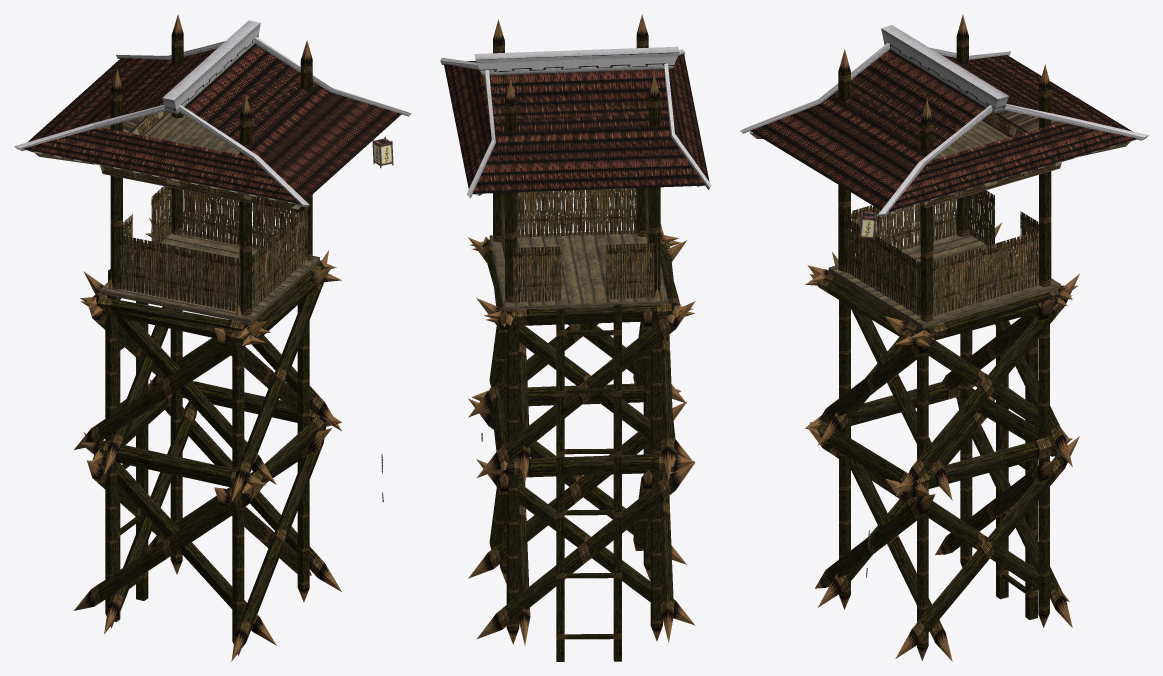
File: tower_test.fbx
3 views of the same model, side by side, from view 1: azimuth 30°, elevation 25°; view 2: azimuth 150°, elevation 25°; view 3: azimuth 270°, elevation 25° (orthographic).
Visible parts, largest first — view 1: c60bca8.obj, c949700.obj, c94d760.obj, c945240.obj, c93ecd8.obj, c935480.obj, c93b308.obj; view 2: c60bca8.obj, c949700.obj, c94d760.obj, c945240.obj, c93ecd8.obj, c935480.obj; view 3: c60bca8.obj, c949700.obj, c94d760.obj, c945240.obj, c935480.obj, c93ecd8.obj, c93b308.obj.
Boxes of the visible parts, bbox=[...] form: c60bca8.obj: bbox=[74, 218, 341, 661]; c949700.obj: bbox=[23, 44, 401, 203]; c94d760.obj: bbox=[111, 186, 307, 311]; c945240.obj: bbox=[80, 14, 336, 338]; c93ecd8.obj: bbox=[99, 113, 319, 323]; c935480.obj: bbox=[14, 20, 411, 206]; c93b308.obj: bbox=[24, 111, 300, 209]; c60bca8.obj: bbox=[468, 224, 695, 661]; c949700.obj: bbox=[444, 54, 709, 193]; c94d760.obj: bbox=[501, 187, 657, 302]; c945240.obj: bbox=[470, 14, 692, 325]; c93ecd8.obj: bbox=[489, 230, 667, 310]; c935480.obj: bbox=[440, 46, 711, 198]; c60bca8.obj: bbox=[805, 220, 1079, 661]; c949700.obj: bbox=[750, 49, 1136, 211]; c94d760.obj: bbox=[845, 190, 1038, 315]; c945240.obj: bbox=[809, 14, 1077, 339]; c935480.obj: bbox=[740, 25, 1148, 216]; c93ecd8.obj: bbox=[828, 121, 1060, 328]; c93b308.obj: bbox=[750, 110, 1135, 214].
Size of the model in its own units: 62.7 by 103 by 66.31.
